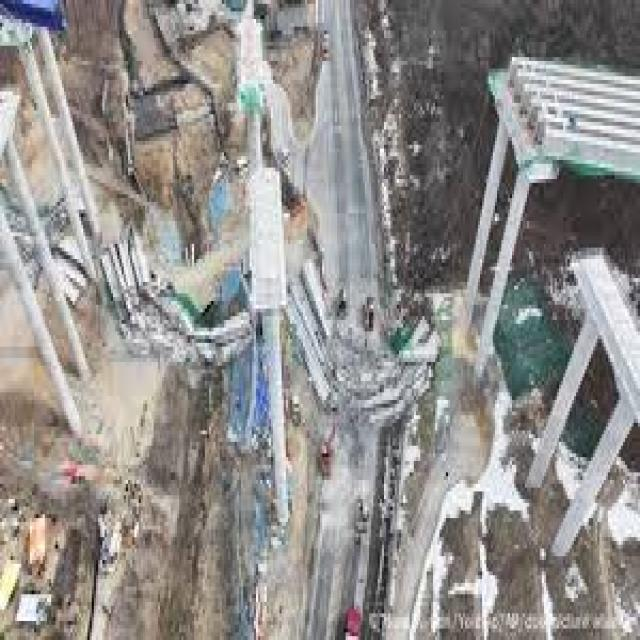bridge collapse: (0, 0, 640, 481)
